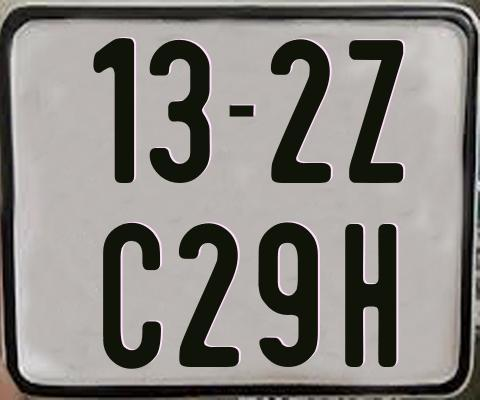1: (91, 38, 134, 187)
2: (271, 37, 337, 185), (176, 220, 242, 367)
3: (149, 38, 214, 186)
9: (256, 219, 321, 368)
C: (100, 222, 162, 370)
H: (343, 223, 395, 372)
Z: (349, 39, 407, 182)
